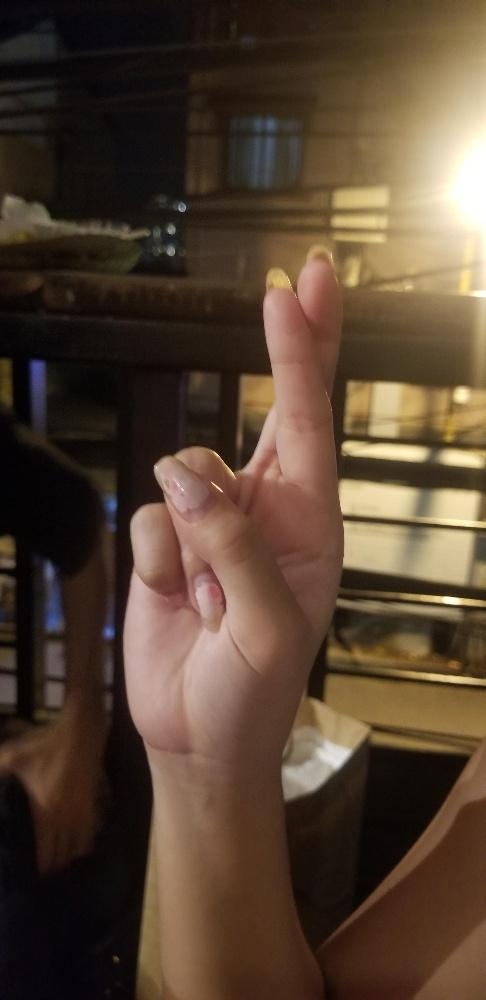r: (120, 238, 350, 775)
